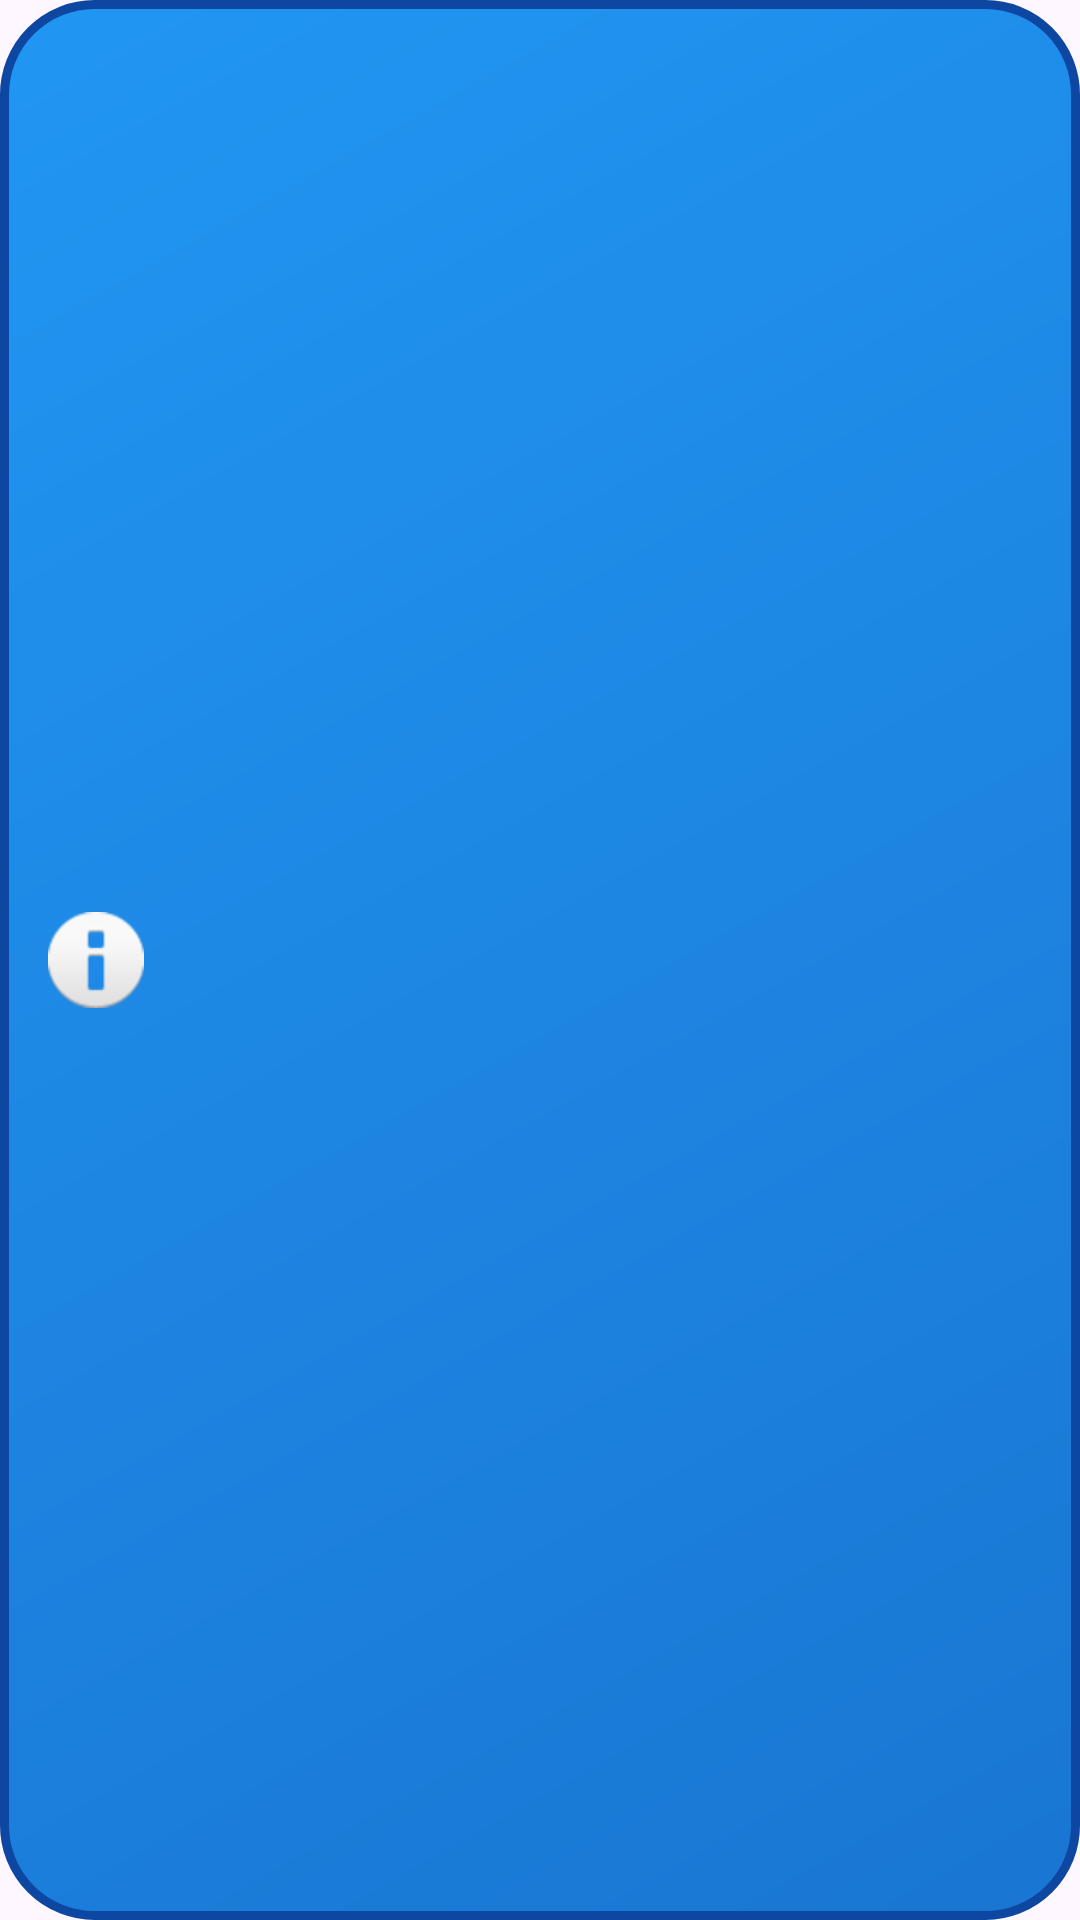

Icons on this 1080px x 1920px Android screen, each with its box as rect(x1, y1, x2, y2):
info: rect(48, 912, 144, 1008)
